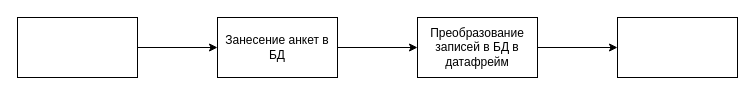
This 755x95 diagram has some shape labels left out. The box of each missing label's shape, as (x1, y1, x2, y2) in pixels:
Получение анкет с API: (16, 16, 138, 78)
Построение графиков: (616, 16, 738, 78)
